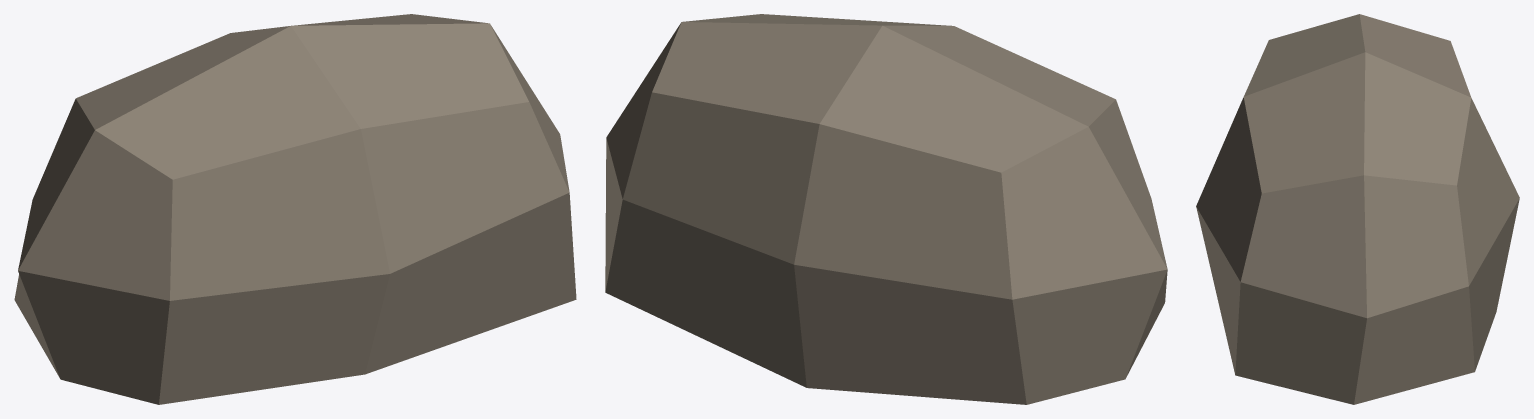
File: stoneB.glb
3 renders of one model, left to right at view 1: azimuth 30°, elevation 25°; view 2: azimuth 150°, elevation 25°; view 3: azimuth 270°, elevation 25°, orthographic. The views are drawn at different scales.
Parts seen in each view (by area): view 1: stoneB; view 2: stoneB; view 3: stoneB.
Part boxes in pixels (bbox=[...]): stoneB: bbox=[14, 14, 576, 404]; stoneB: bbox=[605, 14, 1167, 404]; stoneB: bbox=[1196, 14, 1519, 404].
Size of the model in its own units: 2.16 by 1.15 by 1.28.
